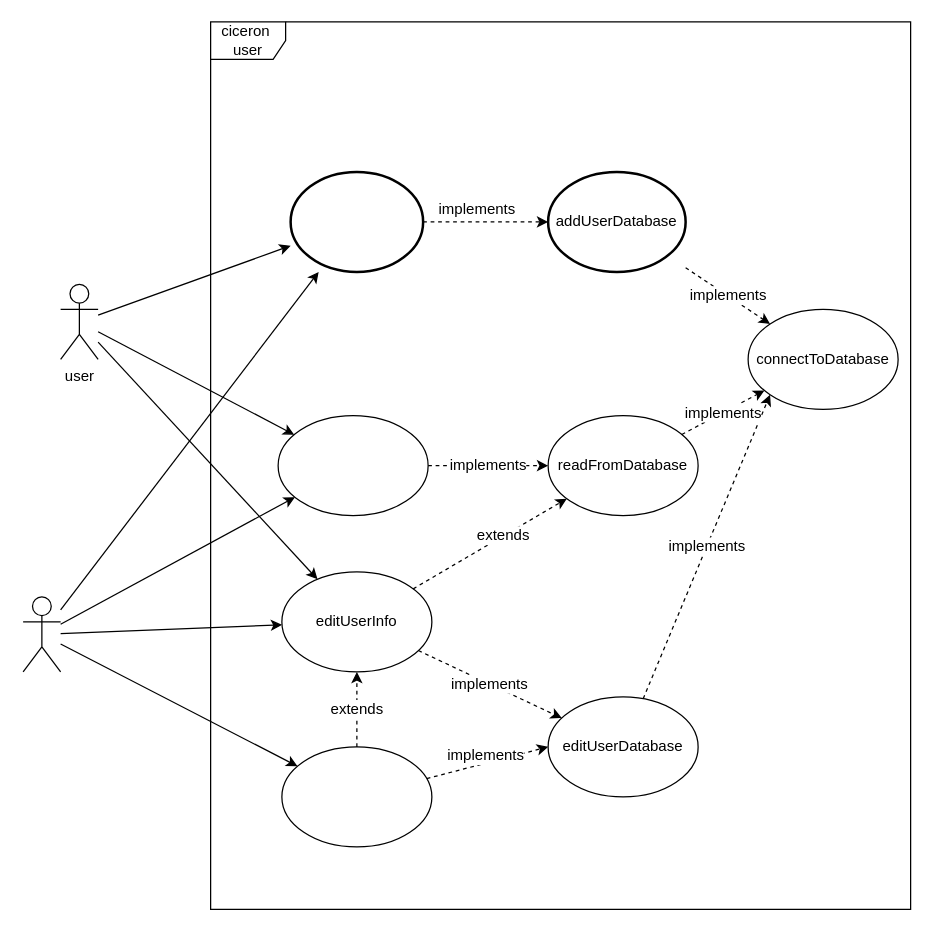
Some shapes in this 933 by 931 pixel diagram are drawn without their labels. Each missing label, with the centre of its shape:
"admin" goes at (41,634).
"approveUserCategory" goes at (356,796).
"createUser" goes at (356,221).
"userLogin" goes at (352,465).
